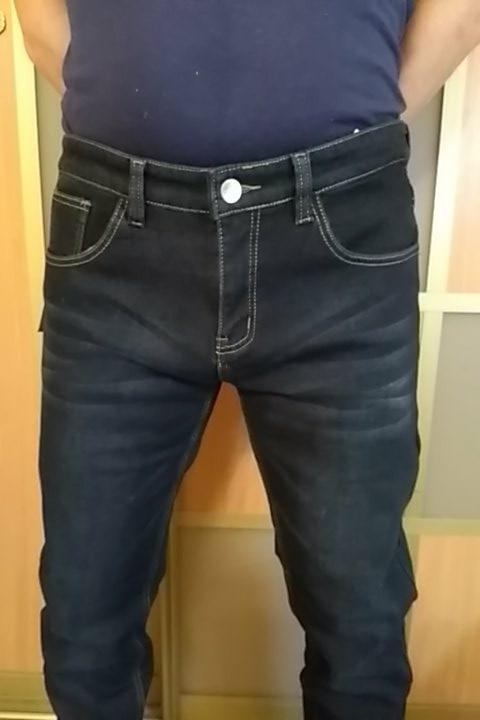jeans: (41, 127, 432, 720)
